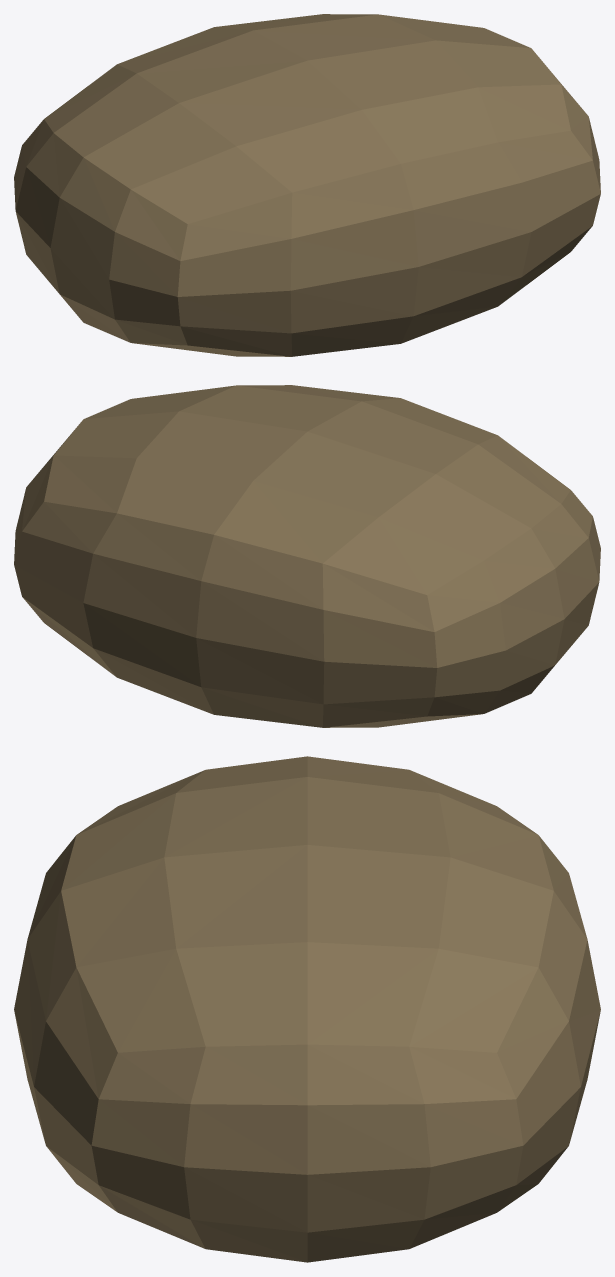
Rendered from sac_sable.glb.
3 renders of one model, top to bottom at view 1: azimuth 30°, elevation 25°; view 2: azimuth 150°, elevation 25°; view 3: azimuth 270°, elevation 25°, orthographic. The views are drawn at different scales.
Parts seen in each view (by area): view 1: bag; view 2: bag; view 3: bag.
Part boxes in pixels (x1,y1,x2,y2): bag: (14, 14, 600, 356); bag: (14, 385, 600, 727); bag: (14, 756, 600, 1262).
Bounding box in the file's own units: 0.56 × 0.26 × 0.42.
1 material, 1 textured.
